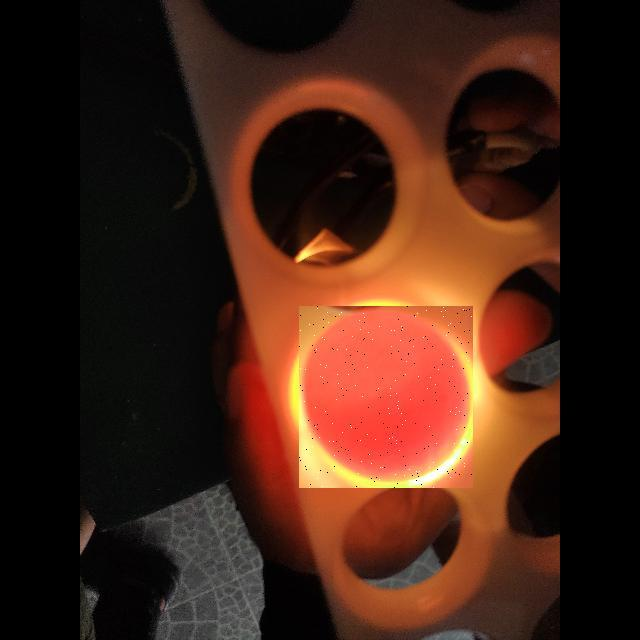Infertile: (299, 306, 473, 488)
